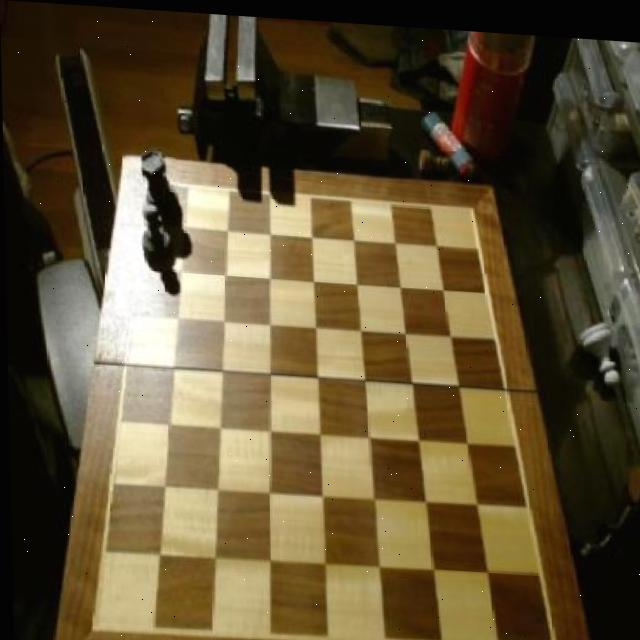black-knight: (138, 201, 171, 268)
black-queen: (141, 150, 179, 228)
